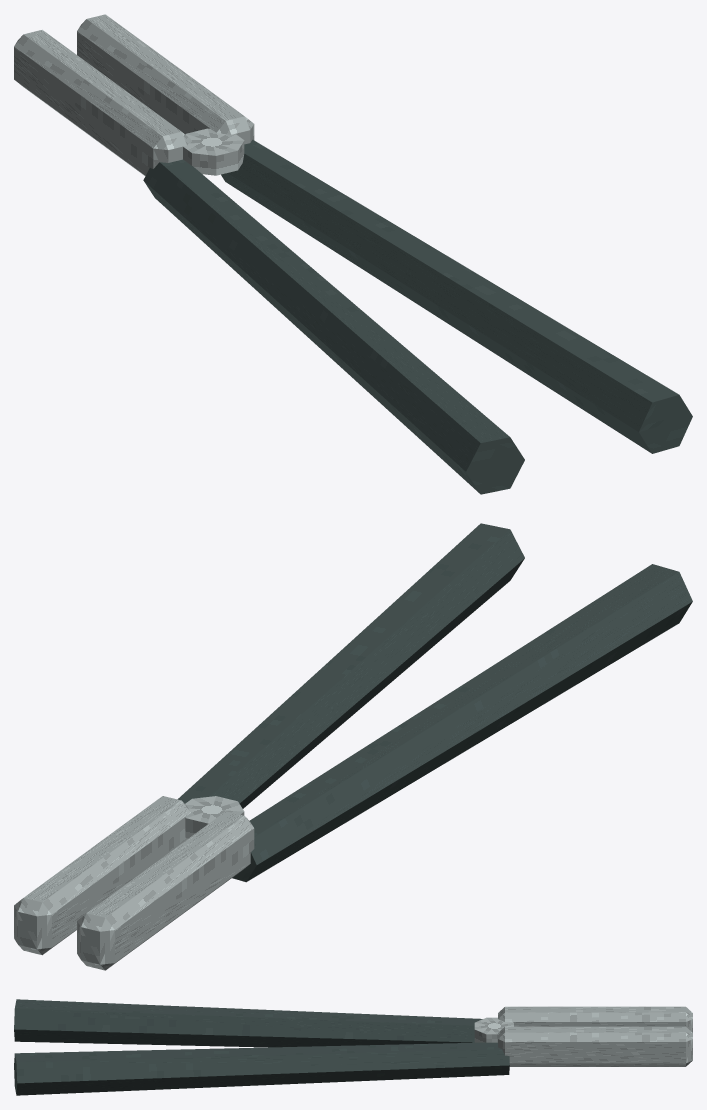
The model's file is tongs.glb.
3 renders of one model, top to bottom at view 1: azimuth 30°, elevation 25°; view 2: azimuth 150°, elevation 25°; view 3: azimuth 270°, elevation 25°, orthographic. The views are drawn at different scales.
Visible parts, largest first — view 1: block_hinged arm 1, block_hinged arm -1, block_working jaw -1, block_working jaw 1, block_pivot; view 2: block_hinged arm -1, block_hinged arm 1, block_working jaw -1, block_working jaw 1, block_pivot; view 3: block_hinged arm 1, block_hinged arm -1, block_working jaw 1, block_working jaw -1, block_pivot.
Part boxes in pixels (x1,y1,x2,y2): block_hinged arm 1: (221,139,692,453); block_hinged arm -1: (143,159,524,494); block_working jaw -1: (14,29,190,176); block_working jaw 1: (77,14,254,144); block_pivot: (183,128,244,175); block_hinged arm -1: (232,564,692,882); block_hinged arm 1: (177,523,524,808); block_working jaw -1: (77,811,254,970); block_working jaw 1: (14,796,190,955); block_pivot: (185,796,244,838); block_hinged arm 1: (14,1042,509,1095); block_hinged arm -1: (14,999,482,1047); block_working jaw 1: (498,1026,692,1066); block_working jaw -1: (498,1006,692,1032); block_pivot: (474,1017,513,1042).
Size of the model in its own units: 0.0752 by 0.0217 by 0.3.
Materials: 1 (1 with a texture image).
